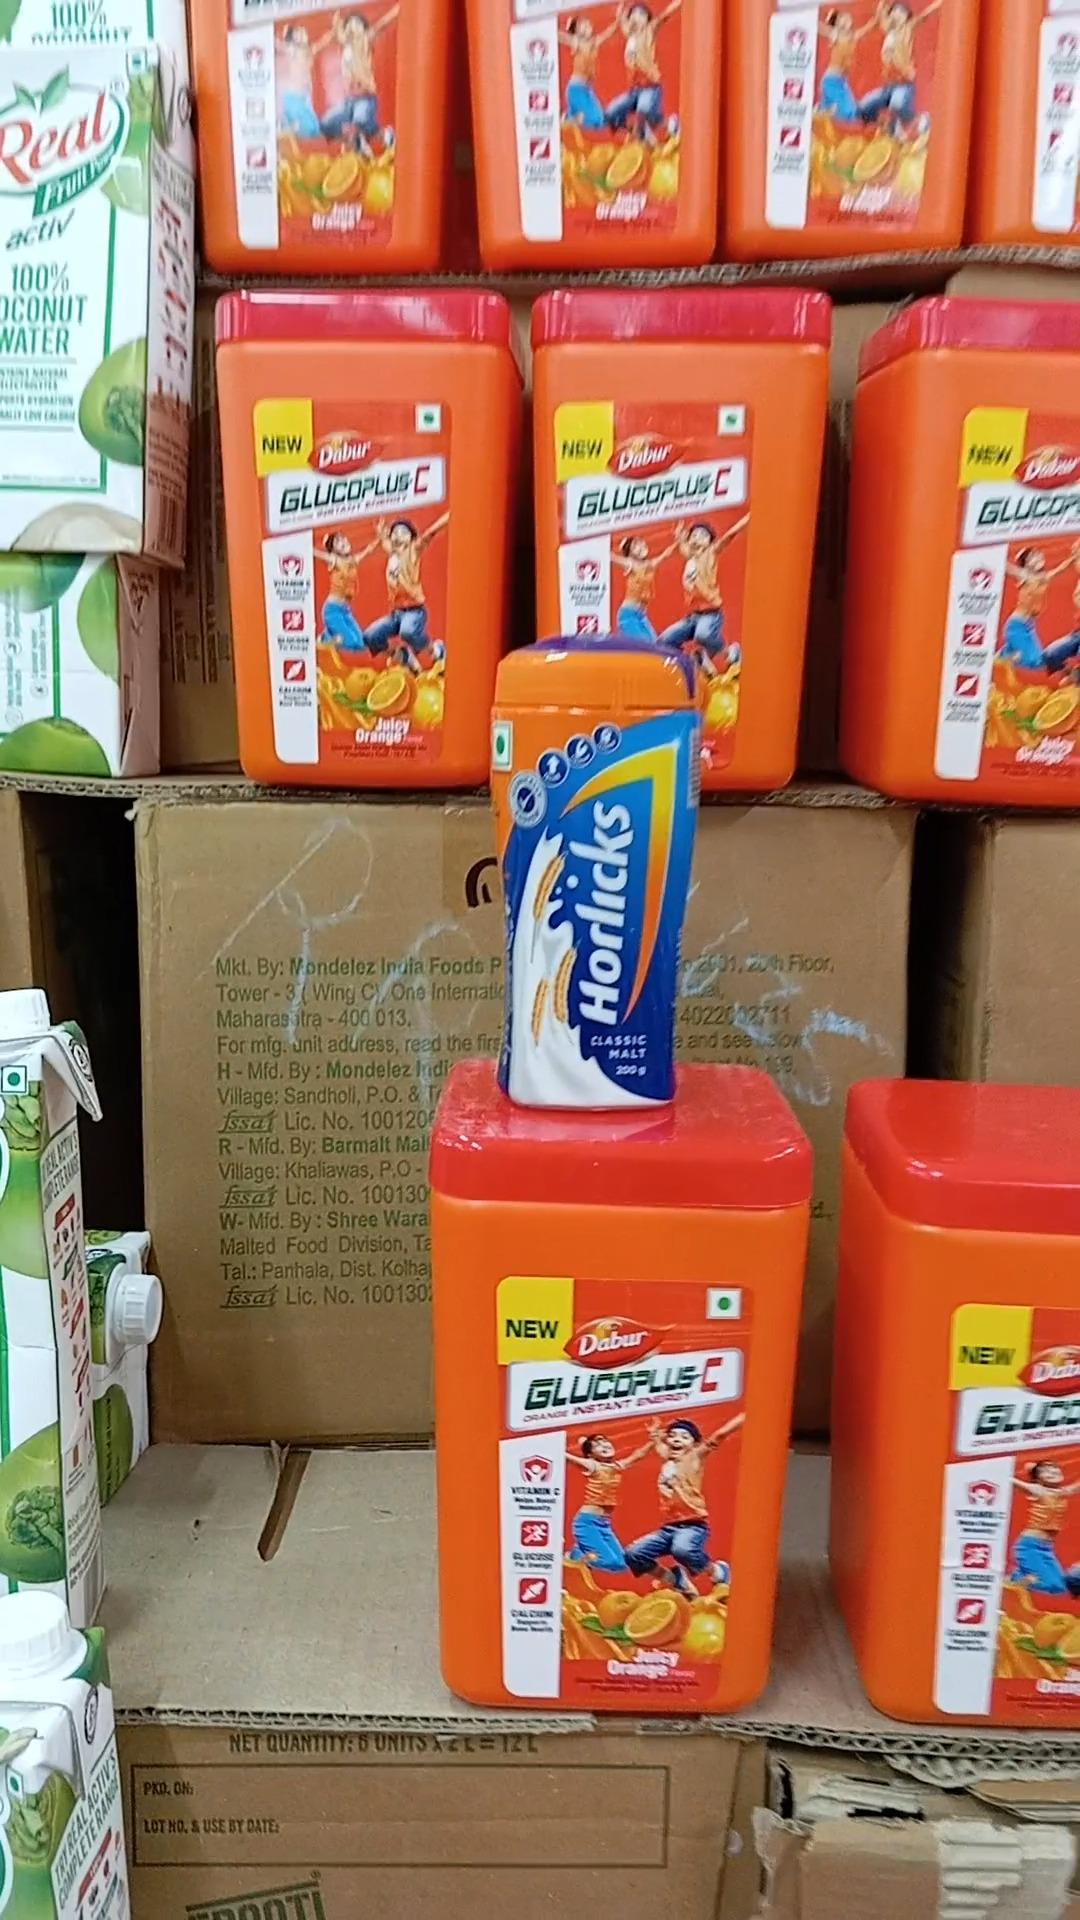HORLICK_CLASSIC_MALT_200_G_JAR: (493, 644, 676, 1109)
